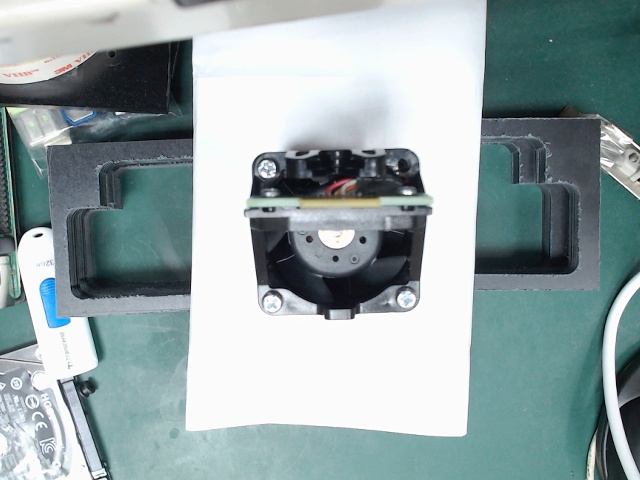Phase1_OK: (229, 124, 446, 334)
